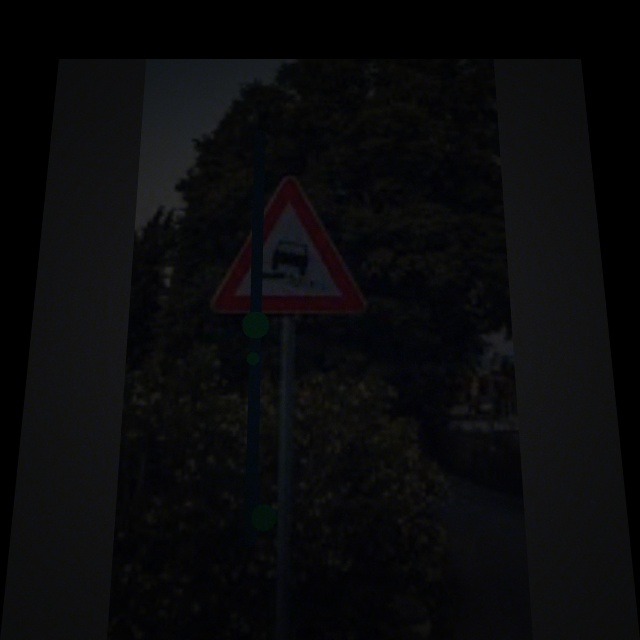Loose_Gravel: (222, 179, 361, 313)
